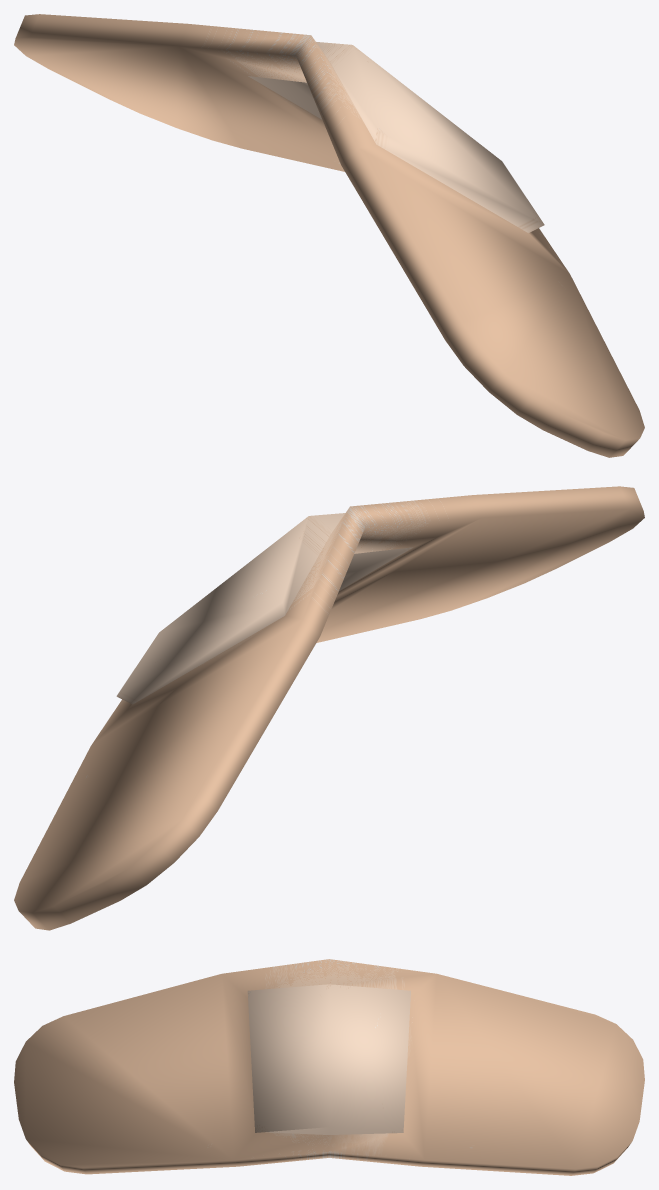
The model's file is Bandaid.glb.
3 views of the same model, one above another, from view 1: azimuth 30°, elevation 25°; view 2: azimuth 150°, elevation 25°; view 3: azimuth 270°, elevation 25° (orthographic). The views are drawn at different scales.
Parts seen in each view (by area): view 1: Bandaid; view 2: Bandaid; view 3: Bandaid.
Boxes of the visible parts, x1=… form: Bandaid: x1=14, y1=14, x2=644, y2=457; Bandaid: x1=14, y1=486, x2=644, y2=930; Bandaid: x1=14, y1=959, x2=644, y2=1175.
Size of the model in its own units: 0.1268 by 0.1243 by 0.394.
Materials: 1 (1 with a texture image).
